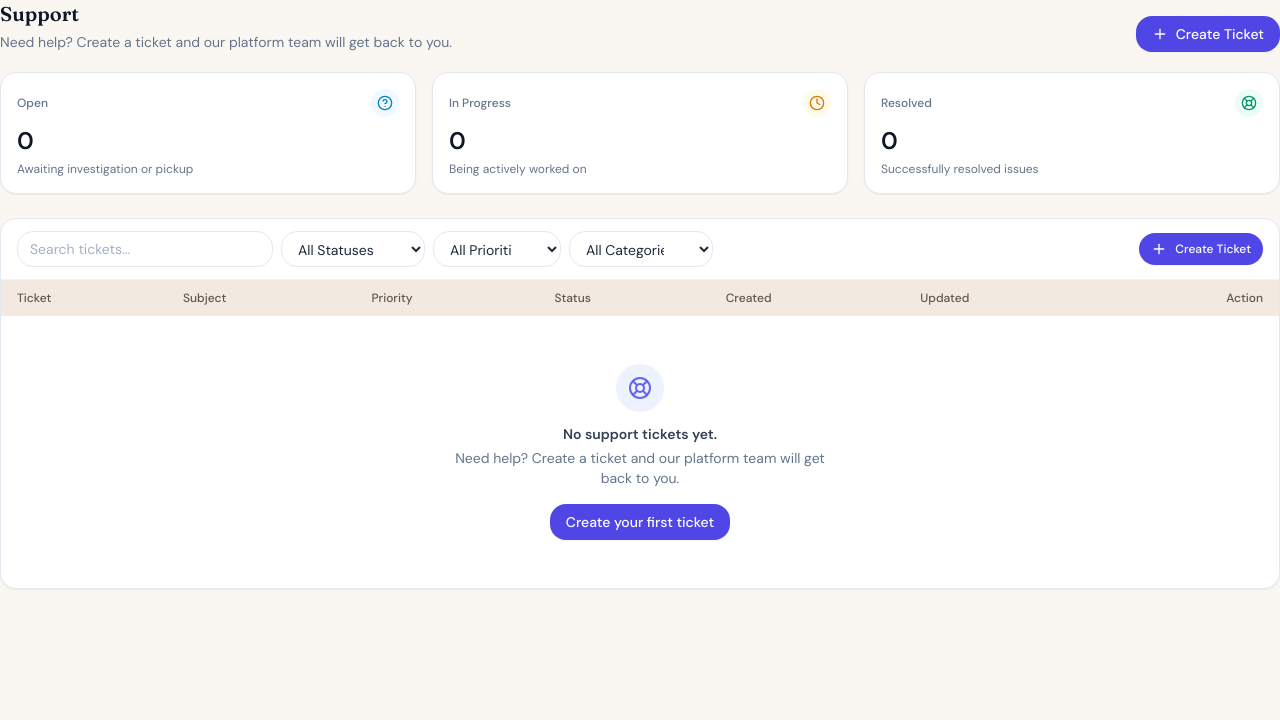
Test case: SupportPage (Organisation Support & Platform Communication) › opens Create Support Ticket modal and validates required fields
The image size is (1280, 720).
Open modal
Click the button "Create your first ticket".
click(640, 522)  # box [550,504,730,540]
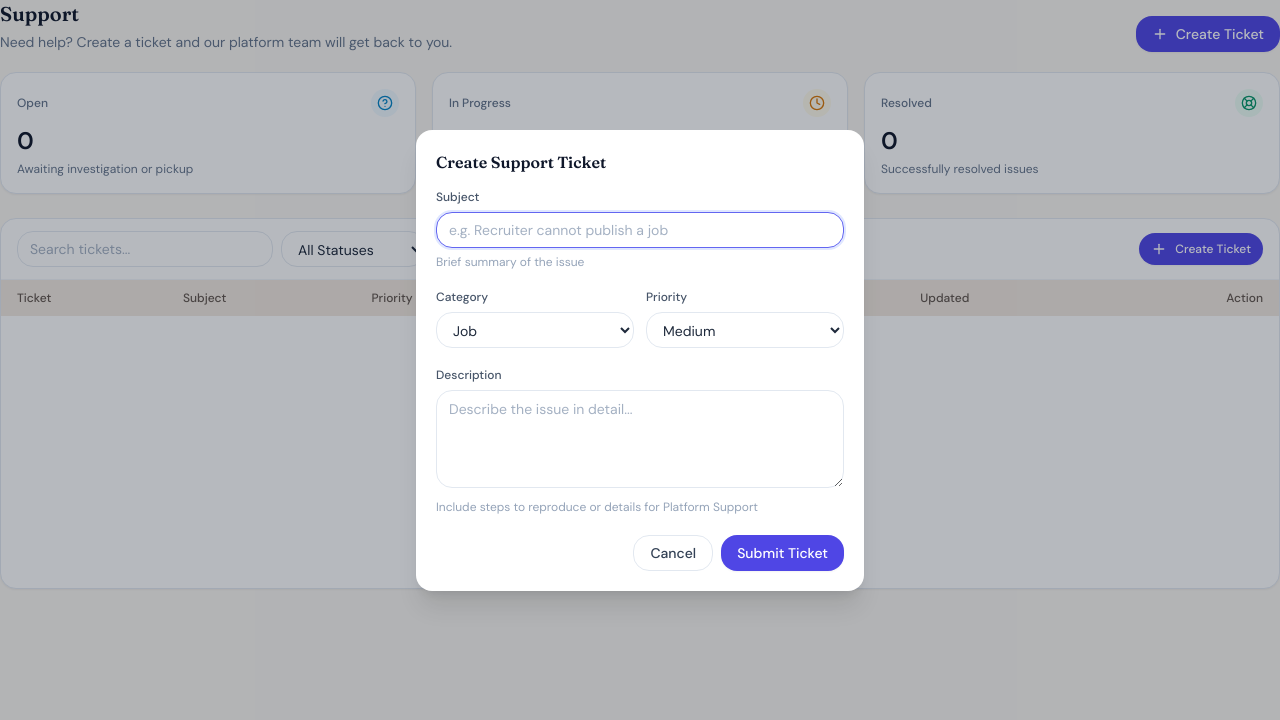
Now the heading "Create Support Ticket" is shown, box [436,152,606,172]
Now the field with placeholder "e.g. Recruiter cannot publish a job" is shown, box [436,212,844,248]
Now the text box with placeholder "Describe the issue in detail..." is shown, box [436,390,844,488]
Attempt submitting without fields
Click the button "Submit Ticket".
click(783, 552)  # box [721,534,844,570]
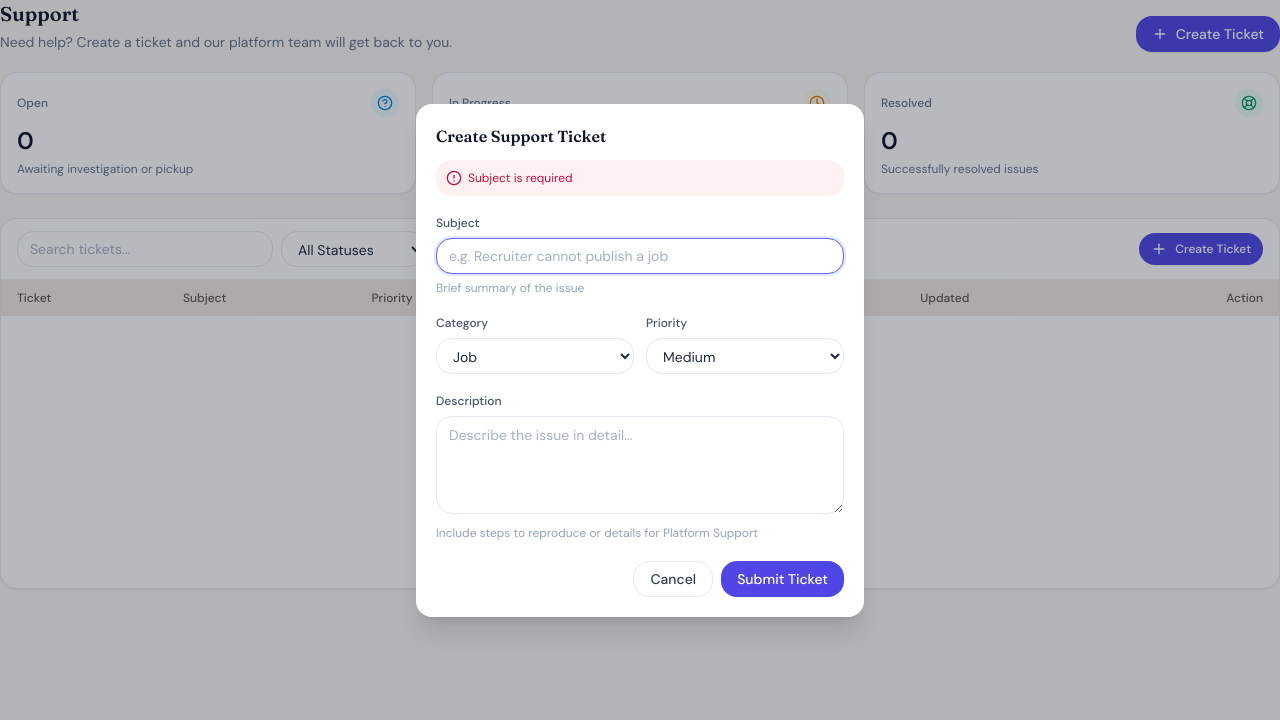
Now the text "Subject is required" is shown, box [468,170,573,186]
